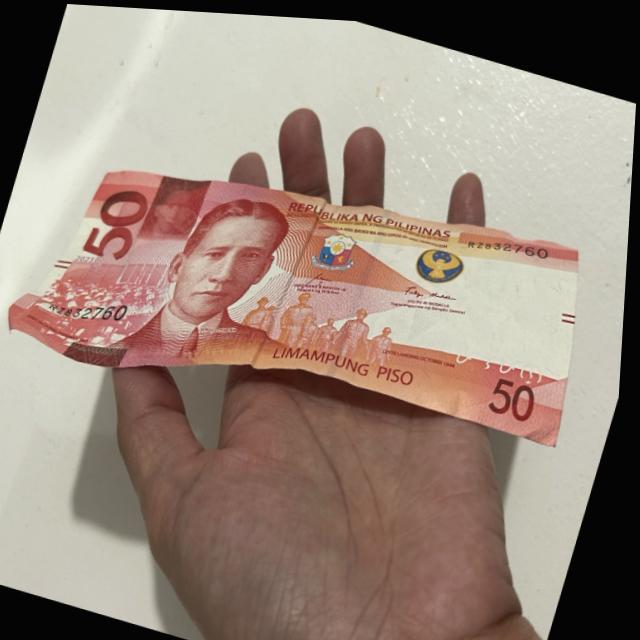concealed_value: (126, 158, 218, 257)
security_thread: (329, 200, 390, 385)
see_through_mark: (442, 326, 562, 385)
serial_number: (41, 278, 141, 344), (462, 212, 568, 274)
value: (71, 167, 151, 278)
